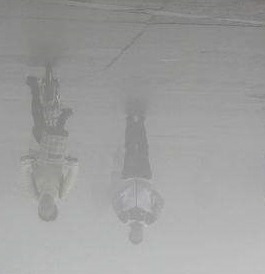person: (23, 74, 77, 223), (113, 112, 161, 245)
